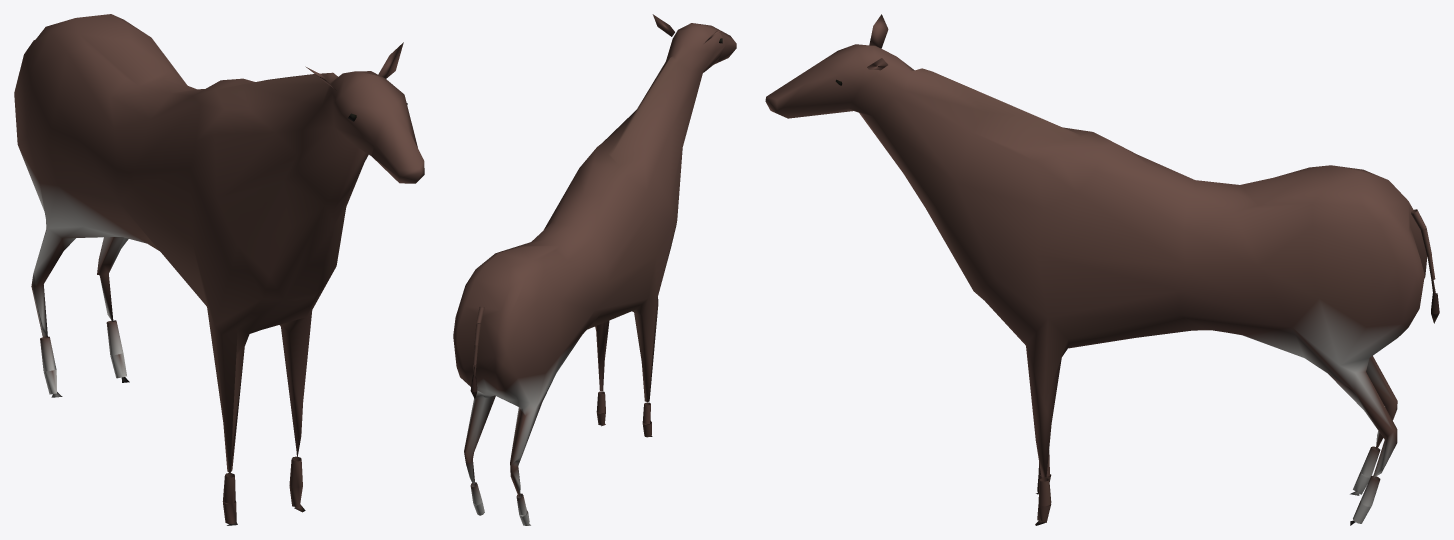
The model's file is okapi.glb.
3 renders of one model, left to right at view 1: azimuth 30°, elevation 25°; view 2: azimuth 150°, elevation 25°; view 3: azimuth 270°, elevation 25°, orthographic. The views are drawn at different scales.
Parts seen in each view (by area): view 1: lack; view 2: lack; view 3: lack.
Part boxes in pixels (x1,y1,x2,y2): lack: (14,14,424,525); lack: (453,14,736,525); lack: (765,14,1439,525).
Bounding box in the file's own units: 0.523 × 2.18 × 2.81.
